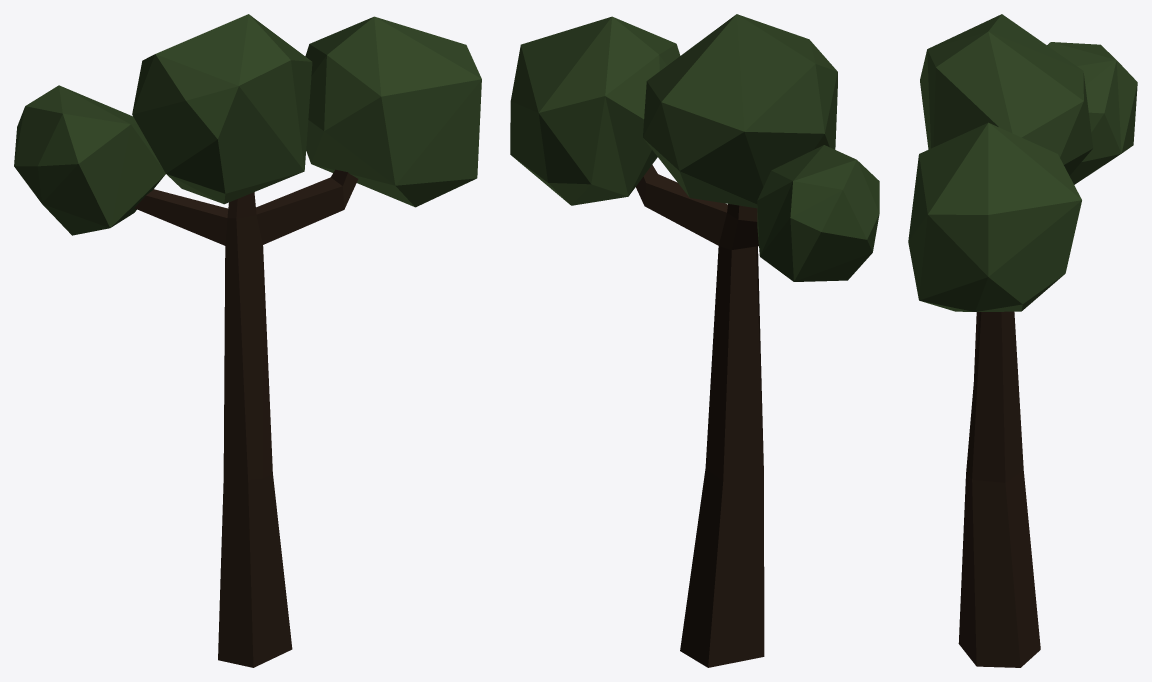
The model's file is tree_2.FBX.
3 renders of one model, left to right at view 1: azimuth 30°, elevation 25°; view 2: azimuth 150°, elevation 25°; view 3: azimuth 270°, elevation 25°, orthographic. The views are drawn at different scales.
Parts seen in each view (by area): view 1: tree_2; view 2: tree_2; view 3: tree_2.
Part boxes in pixels (bbox=[...]): tree_2: bbox=[14, 14, 481, 667]; tree_2: bbox=[510, 14, 879, 667]; tree_2: bbox=[908, 14, 1137, 667].
Bounding box in the file's own units: 51.92 × 77.27 × 26.03.
